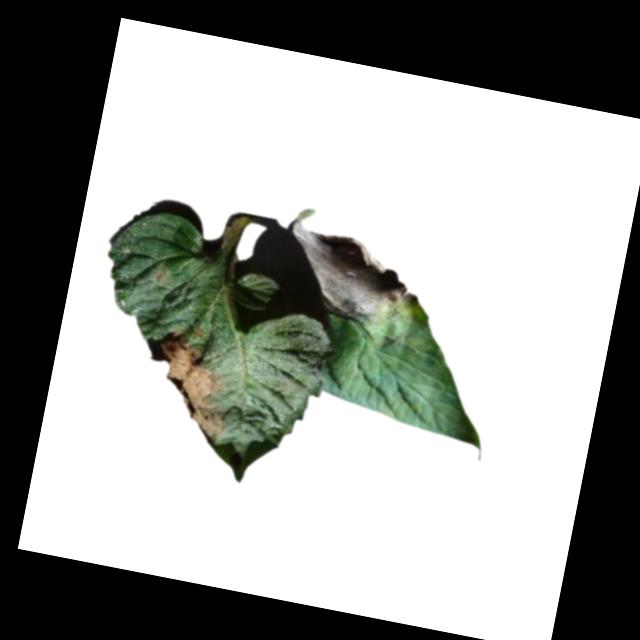Late_blight: (277, 226, 428, 331), (135, 327, 243, 447), (149, 263, 171, 287)
